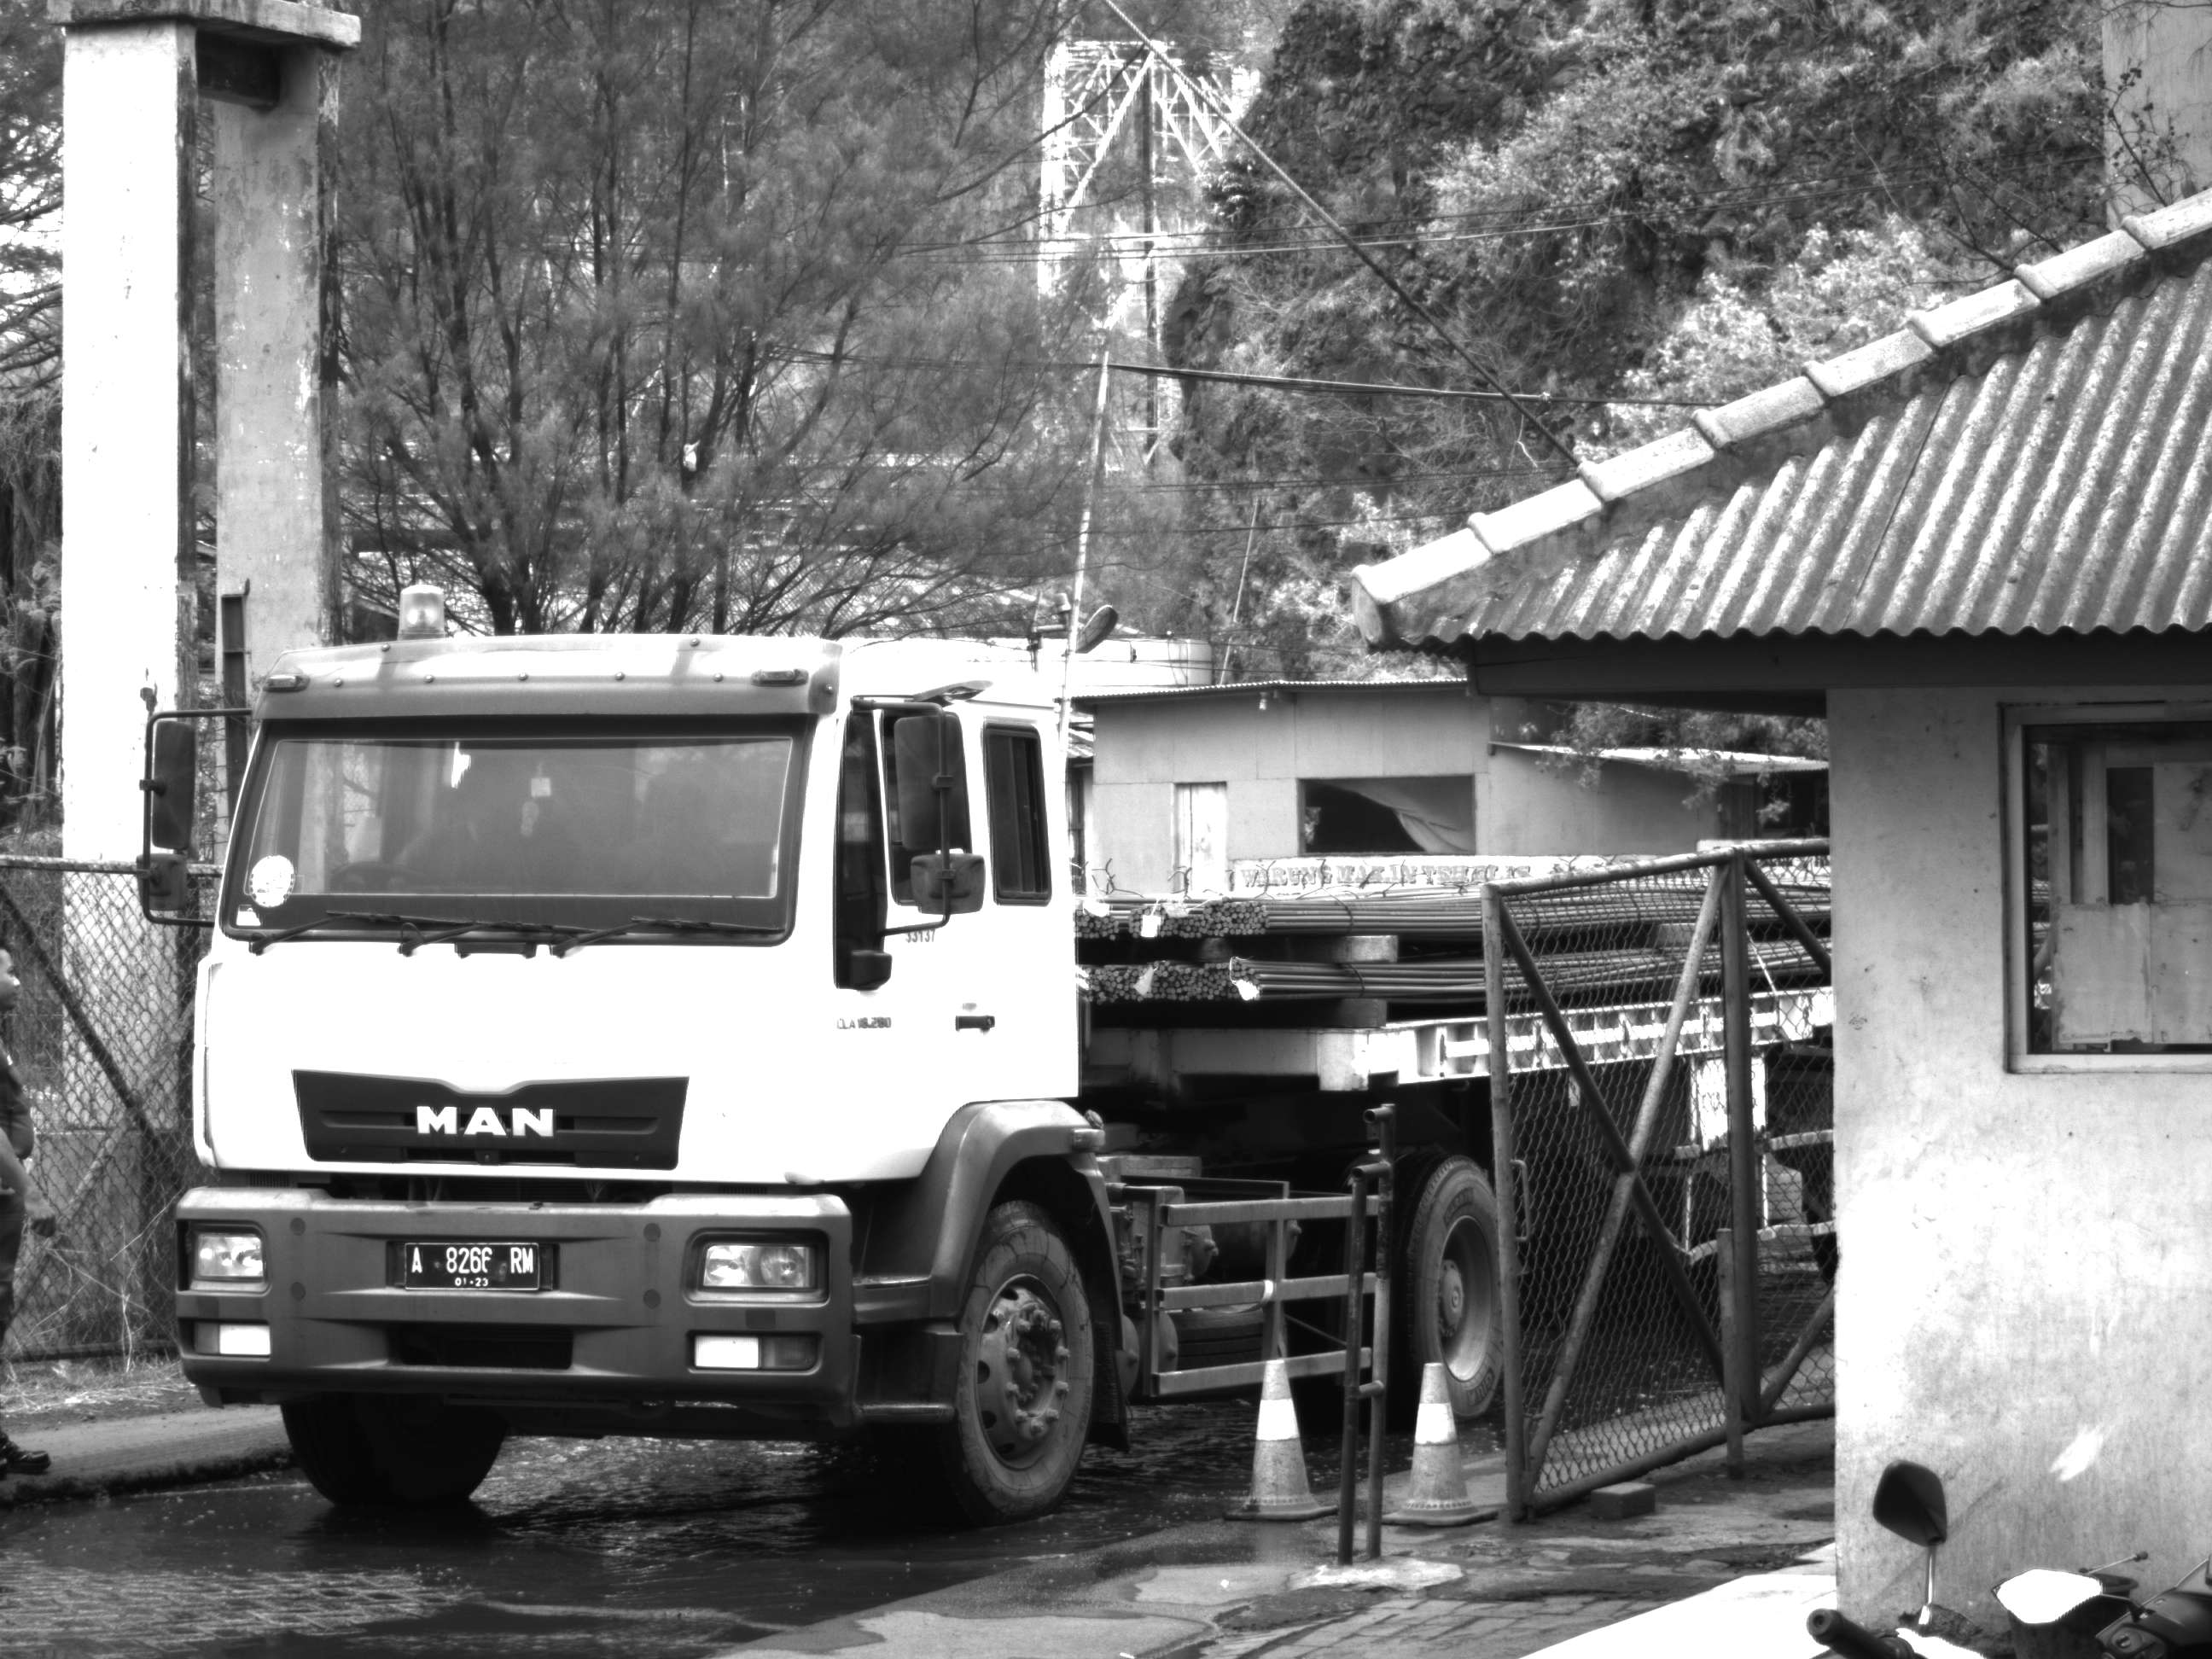day_truck_front: (144, 640, 1126, 1522)
plate: (400, 1239, 541, 1296)
